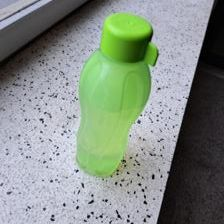bottle: (72, 10, 161, 177)
